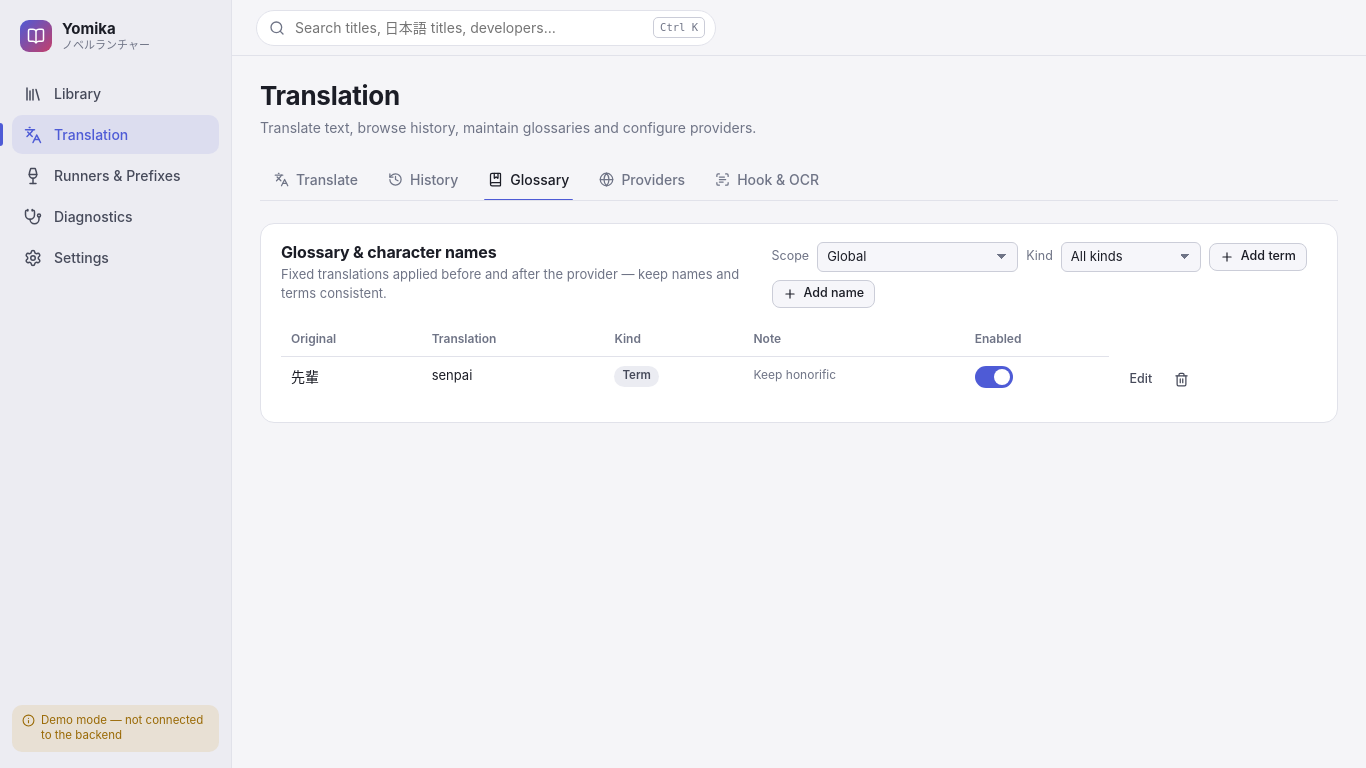
Translation page › edits the glossary
Check: the text "先輩" is shown, box [281,356,422,402]
Click the button "Add name": (823, 294) [772,280,875,308]
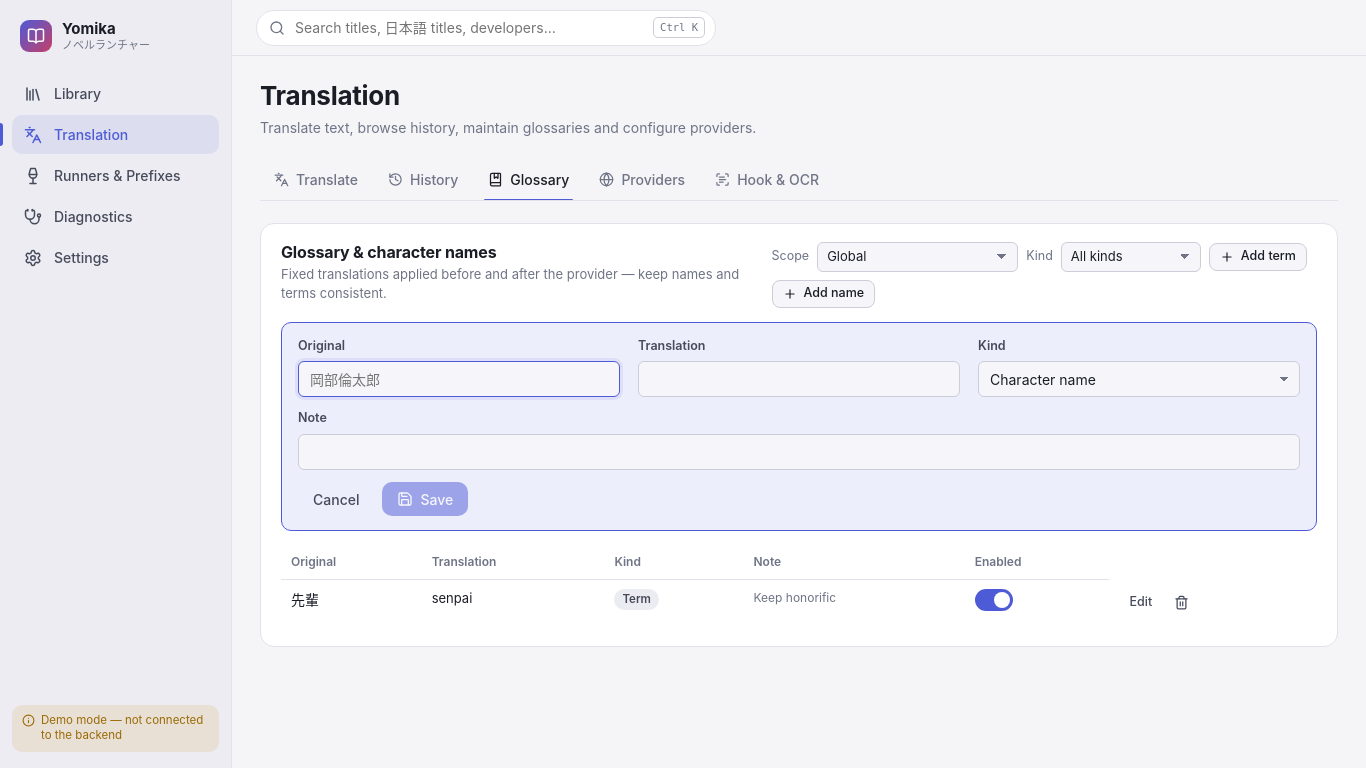
In the field labelled "Original": (459, 379) [298,361,620,397], type "椎名まゆり"
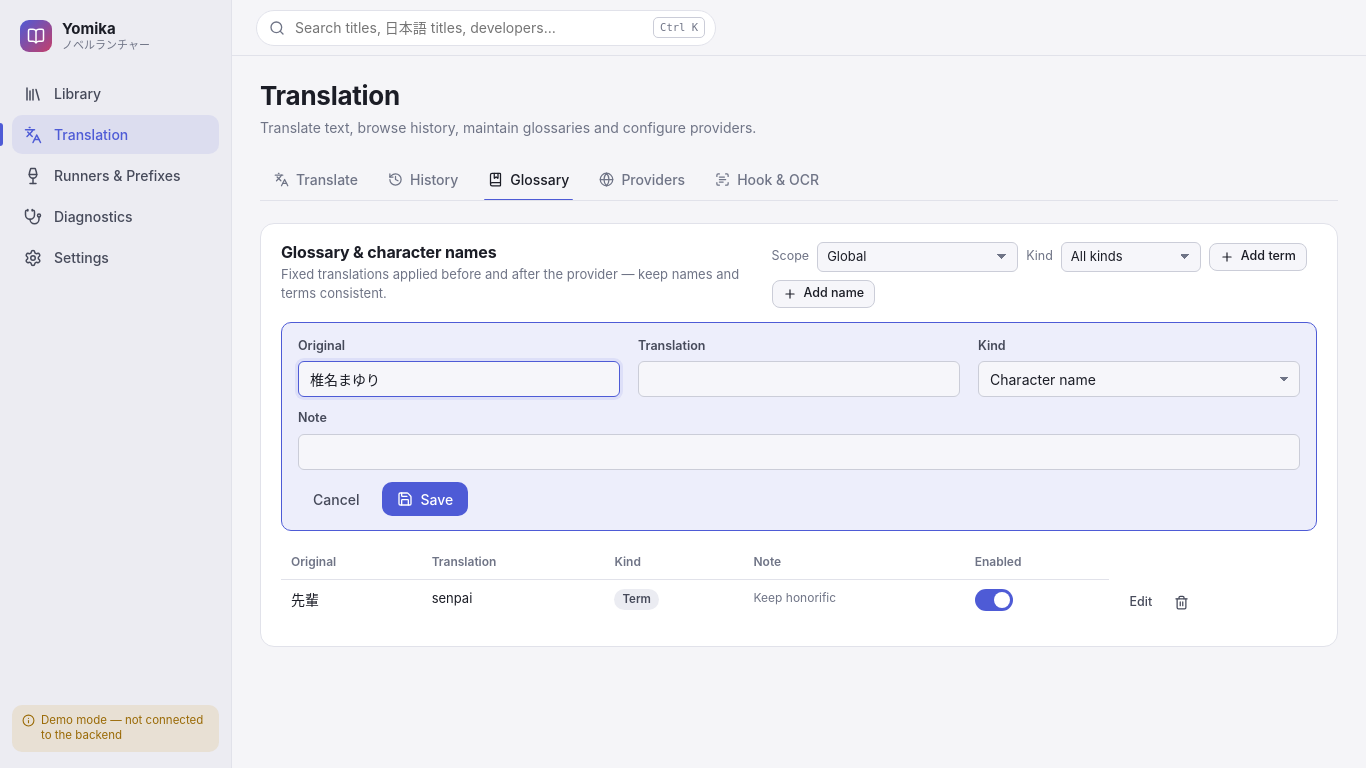
In the field labelled "Translation": (799, 379) [638,361,960,397], type "Mayuri Shiina"
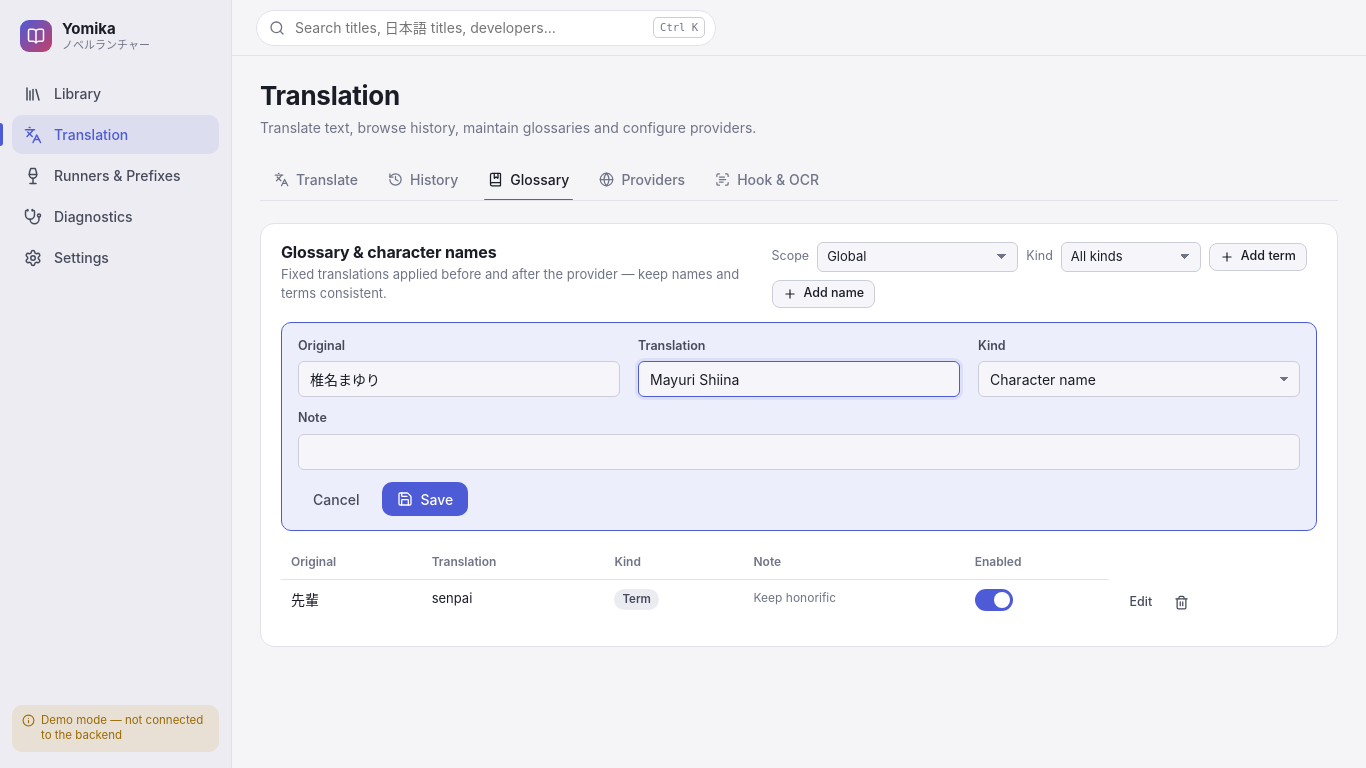
Click the button "Save": (425, 499) [382,482,468,516]
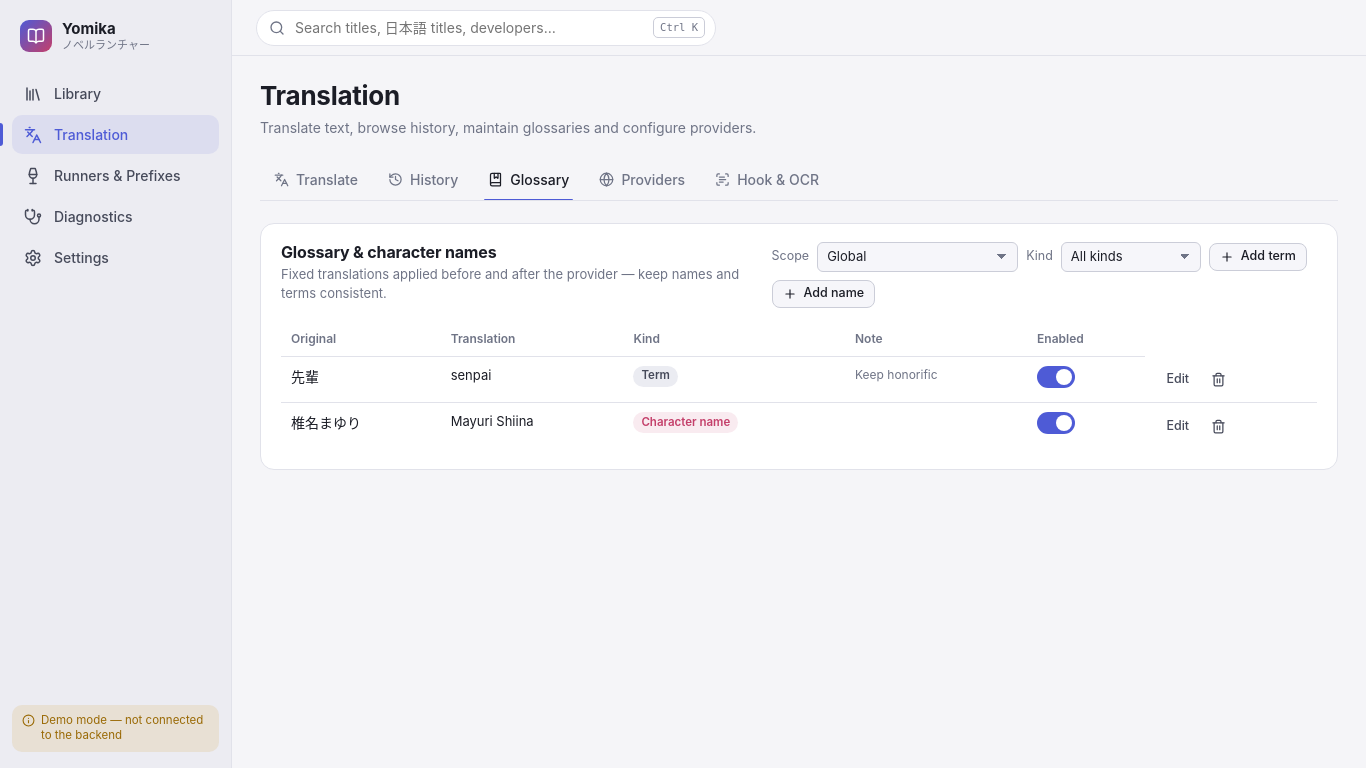
Check: the text "Mayuri Shiina" is shown, box [441,402,623,449]
